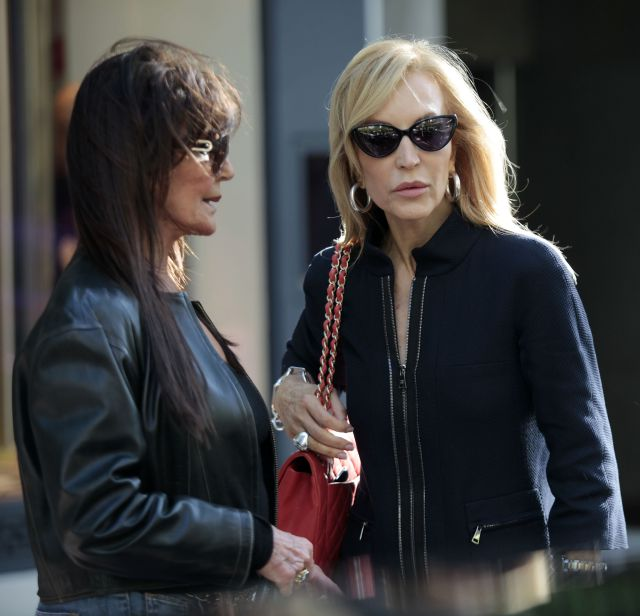Chaise: (446, 383, 578, 554)
